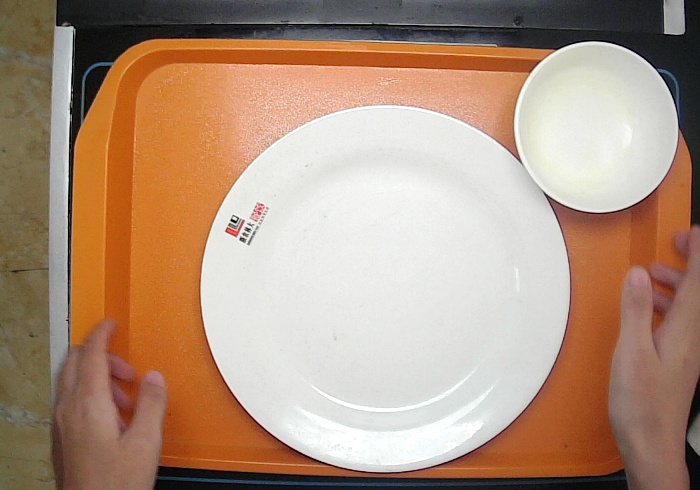ZNLD-Da_Yuan_Pan: (198, 103, 573, 474)
ZNLD-Fan_Wan: (511, 39, 681, 215)
